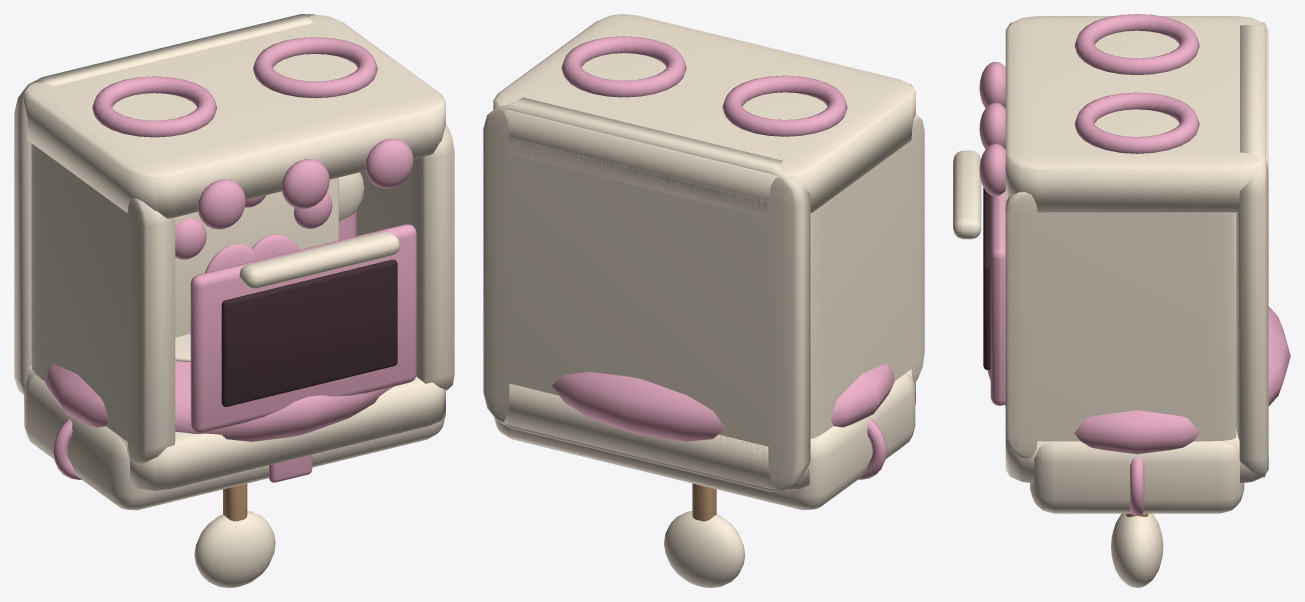
Rendered from cozy-props.glb.
3 renders of one model, left to right at view 1: azimuth 30°, elevation 25°; view 2: azimuth 150°, elevation 25°; view 3: azimuth 270°, elevation 25°, orthographic.
Parts seen in each view (by area): view 1: Oven shell top, Oven shell left, Oven glass, Oven window, Oven shell right, Oven enamel, Cookie parcel, Oven shell back, Cushion velvet, Frame paper, Spoon scoop, Oven burner (+13 smaller); view 2: Oven shell back, Oven shell top, Oven shell left, Cookie parcel, Cushion velvet, Oven enamel, Spoon scoop, Oven burner.001, Oven burner, Tray handle, Spoon handle; view 3: Oven shell right, Oven shell top, Cookie parcel, Oven shell back, Cushion velvet, Oven burner.001, Oven burner, Oven window, Spoon scoop, Oven handle, Oven glass, Oven enamel (+4 smaller).
Part boxes in pixels (x1=…): Oven shell top: x1=24, y1=15, x2=445, y2=218; Oven shell left: x1=31, y1=143, x2=175, y2=465; Oven glass: x1=221, y1=259, x2=397, y2=406; Oven window: x1=190, y1=224, x2=416, y2=433; Oven shell right: x1=356, y1=124, x2=454, y2=390; Oven enamel: x1=24, y1=366, x2=445, y2=491; Cookie parcel: x1=24, y1=374, x2=445, y2=510; Oven shell back: x1=14, y1=14, x2=314, y2=394; Cushion velvet: x1=45, y1=361, x2=393, y2=441; Frame paper: x1=175, y1=177, x2=338, y2=337; Spoon scoop: x1=194, y1=511, x2=275, y2=587; Oven burner: x1=92, y1=76, x2=216, y2=137; Oven shell back: x1=483, y1=97, x2=810, y2=491; Oven shell top: x1=493, y1=14, x2=915, y2=216; Oven shell left: x1=810, y1=115, x2=924, y2=438; Cookie parcel: x1=494, y1=374, x2=915, y2=510; Cushion velvet: x1=552, y1=364, x2=894, y2=441; Oven enamel: x1=502, y1=369, x2=915, y2=490; Spoon scoop: x1=664, y1=511, x2=745, y2=587; Oven burner.001: x1=561, y1=36, x2=686, y2=97; Oven burner: x1=722, y1=75, x2=847, y2=136; Tray handle: x1=858, y1=419, x2=886, y2=479; Spoon handle: x1=692, y1=483, x2=716, y2=521; Oven shell right: x1=1005, y1=192, x2=1236, y2=458; Oven shell top: x1=1005, y1=16, x2=1268, y2=212; Cookie parcel: x1=1030, y1=441, x2=1244, y2=513; Oven shell back: x1=1236, y1=22, x2=1268, y2=477; Cushion velvet: x1=987, y1=306, x2=1290, y2=454; Oven burner.001: x1=1074, y1=92, x2=1199, y2=153; Oven burner: x1=1074, y1=14, x2=1199, y2=74; Oven window: x1=990, y1=191, x2=1005, y2=405; Spoon scoop: x1=1111, y1=513, x2=1163, y2=587; Oven handle: x1=953, y1=150, x2=981, y2=239; Oven glass: x1=983, y1=187, x2=990, y2=369; Oven enamel: x1=1005, y1=427, x2=1268, y2=483.
Bounding box in the file's own units: 1.04 × 1.38 × 0.835.
